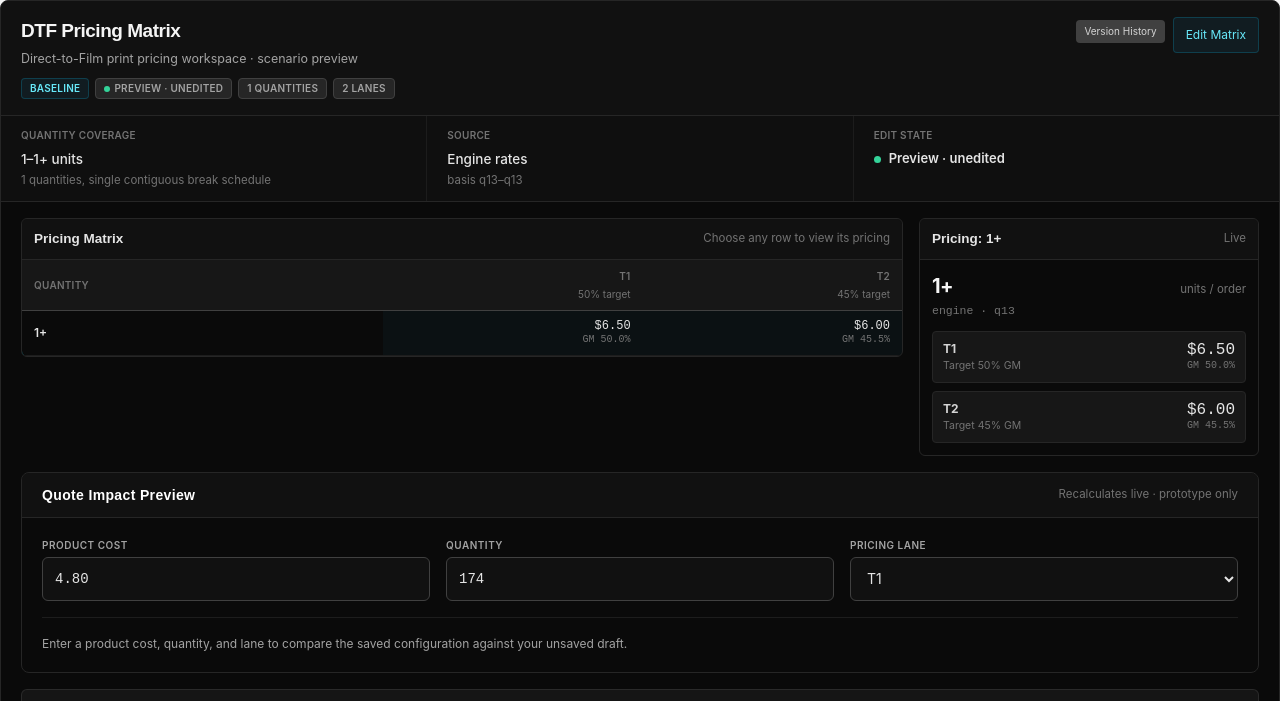
Test: editing direct price › shows an inline error instead of NaN when the price cannot cover labor
Expected: the heading "DTF Pricing Matrix" is shown, [21,20,180,41]
Expected: the 1st text "GM 50.0%" is shown, [583,334,631,346]
Click the button "Edit Matrix" at coordinates (1216, 35), box [1173,17,1259,53]
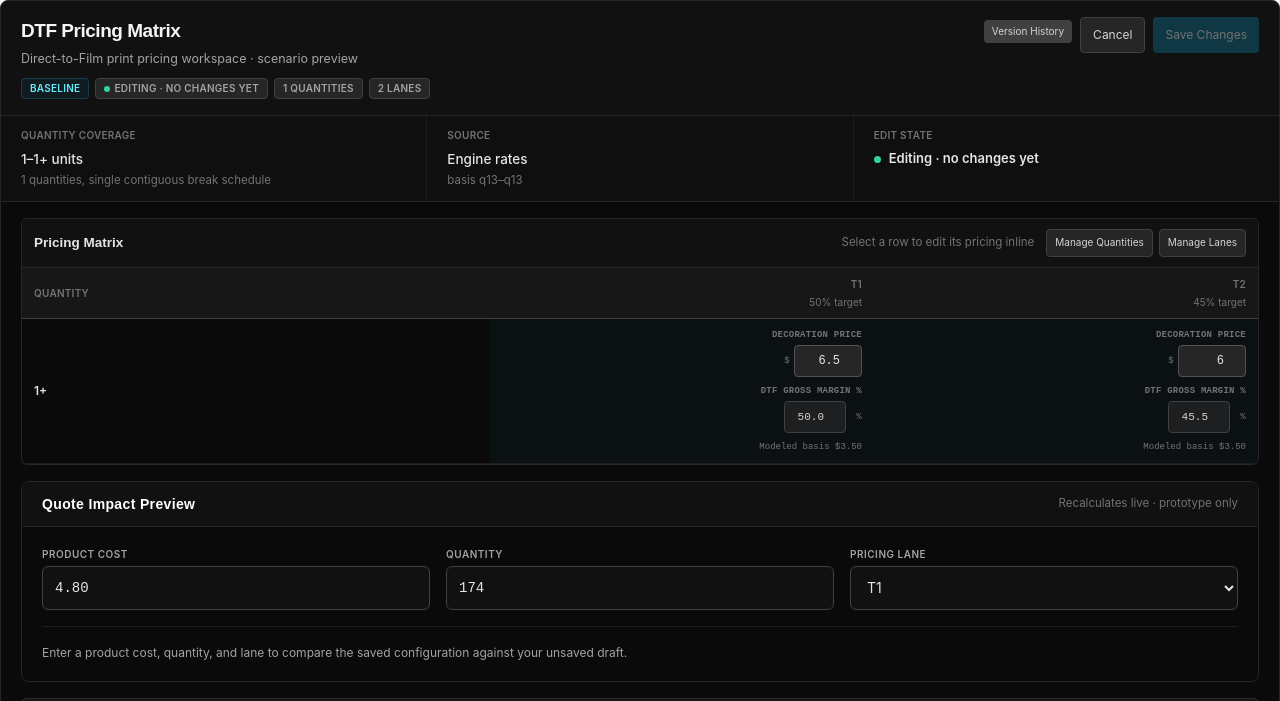
Replace the text in the number field named "Tier 1+ T1 price" with "0.25" at coordinates (828, 361), box [794,345,862,377]
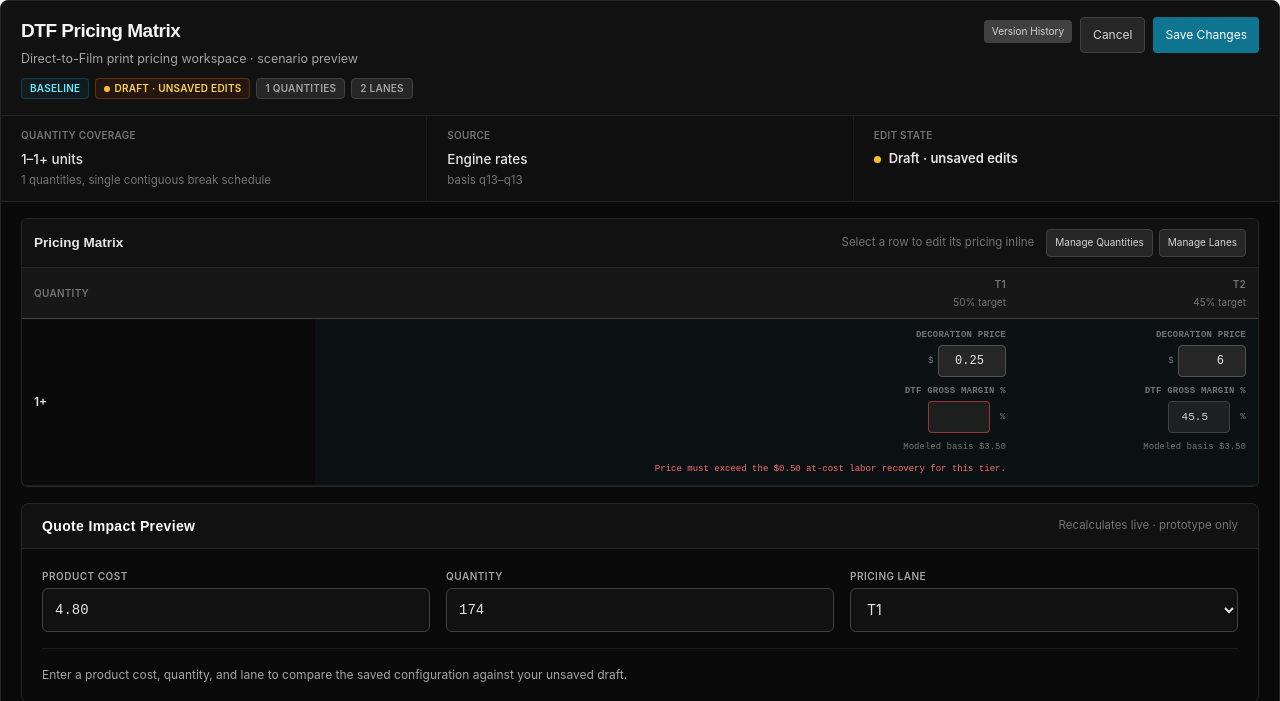
Expected: the text "Price must exceed the $0.50 at-cost labor recovery for this tier." is shown, [655,464,1006,474]
Expected: the number field named "Tier 1+ T1 DTF GM percent" is not empty, [928,401,990,433]
